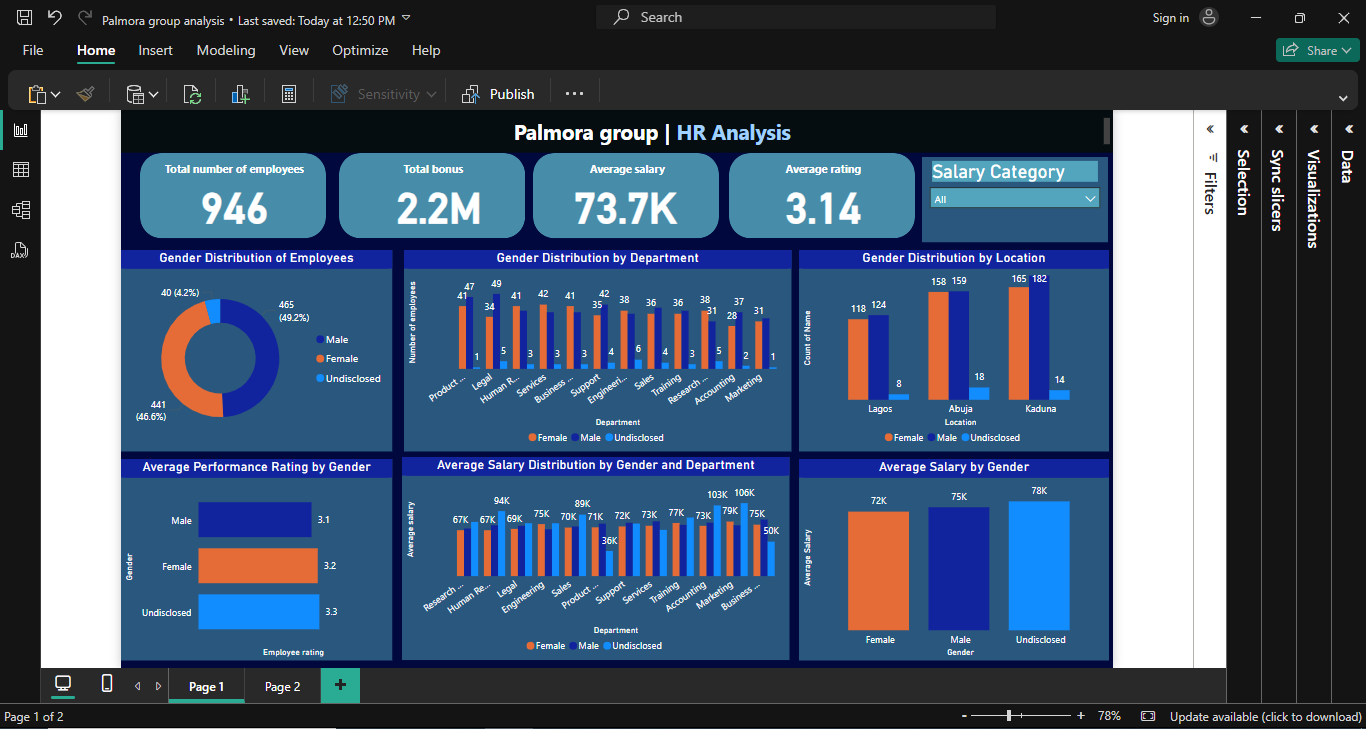

The page's visual inventory and layout, read from the dashboard file:
{"tool":"powerbi","page":{"name":"Page 1","canvas":[1280,720],"ordinal":0},"visuals":[{"type":"shape","box":[0,0,1280,55],"z":0},{"type":"shape","box":[25,55,240,110],"z":0,"group":"g4"},{"type":"shape","box":[280.9,55,240.2,110],"z":0,"group":"g1"},{"type":"shape","box":[532,55,240,110],"z":0,"group":"g2"},{"type":"shape","box":[784,55,240,110],"z":0,"group":"g3"},{"type":"textbox","box":[97.4,5,1182.6,45.4],"z":1000},{"type":"textbox","box":[37,60,220.1,30.2],"z":1000,"group":"g4"},{"type":"textbox","box":[292.6,60,220.1,30.5],"z":1000,"group":"g1"},{"type":"textbox","box":[544,60,220.1,30.2],"z":1000,"group":"g2"},{"type":"textbox","box":[796,60,220.1,30.2],"z":1000,"group":"g3"},{"type":"group","id":"g1","title":"Group 2","box":[280.9,55,240.2,110],"z":2000},{"type":"card","fields":{"Values":["Employees.Total Employees"]},"box":[77,85,140,70],"z":2000,"group":"g4"},{"type":"card","fields":{"Values":["BonusRules.Average Salary"]},"box":[560,85,180,70],"z":2000,"group":"g2"},{"type":"card","fields":{"Values":["Employees.Average Rating"]},"box":[836,85,140,70],"z":2000,"group":"g3"},{"type":"card","fields":{"Values":["Employees.Total Bonus Payout"]},"box":[320,85.2,180,70.5],"z":2000,"group":"g1"},{"type":"group","id":"g2","title":"Group 3","box":[532,55,240,110],"z":3000},{"type":"group","id":"g3","title":"Group 4","box":[784,55,240,110],"z":4000},{"type":"group","id":"g4","title":"Group 5","box":[25,55,240,110],"z":5000},{"type":"donutChart","title":"Gender Distribution of Employees","fields":{"Category":["Employees.Gender"],"Y":["CountNonNull(Employees.Name)"]},"box":[0,180,350,260],"z":6000},{"type":"clusteredColumnChart","title":"Gender Distribution by Department","fields":{"Series":["Employees.Gender"],"Category":["Employees.Department"],"Y":["CountNonNull(Employees.Name)"]},"box":[365,180,500,260.4],"z":7000},{"type":"clusteredColumnChart","title":"Gender Distribution by Location","fields":{"Category":["Employees.Location"],"Series":["Employees.Gender"],"Y":["CountNonNull(Employees.Name)"]},"box":[875,180.7,400,260.2],"z":8000},{"type":"clusteredBarChart","title":"Average Performance Rating by Gender","fields":{"Category":["Employees.Gender"],"Y":["Employees.Average Rating"]},"box":[0,450,350,260],"z":9000},{"type":"clusteredColumnChart","fields":{"Category":["Employees.Gender"],"Y":["BonusRules.Average Salary"]},"box":[875,450,400,260],"z":10000},{"type":"clusteredColumnChart","title":"Average Salary Distribution by Gender and Department","fields":{"Series":["Employees.Gender"],"Category":["Employees.Department"],"Y":["BonusRules.Average Salary"]},"box":[362.9,448.2,500.2,261.7],"z":11000},{"type":"slicer","fields":{"Values":["Employees.Salary Category"]},"box":[1033.7,60.7,240,110],"z":12000}]}

Visuals, with their boxes on the page's 1280x720 design canvas (x1, y1, x2, y2). These are canvas units, not pixel positions in the 1366x729 screenshot, which may show the page scaled, cropped or inside an application window:
shape: 0 0 1280 55
shape: 25 55 265 165
shape: 281 55 521 165
shape: 532 55 772 165
shape: 784 55 1024 165
textbox: 97 5 1280 50
textbox: 37 60 257 90
textbox: 293 60 513 90
textbox: 544 60 764 90
textbox: 796 60 1016 90
"Group 2" group: 281 55 521 165
card - Employees.Total Employees: 77 85 217 155
card - BonusRules.Average Salary: 560 85 740 155
card - Employees.Average Rating: 836 85 976 155
card - Employees.Total Bonus Payout: 320 85 500 156
"Group 3" group: 532 55 772 165
"Group 4" group: 784 55 1024 165
"Group 5" group: 25 55 265 165
"Gender Distribution of Employees" donutChart: 0 180 350 440
"Gender Distribution by Department" clusteredColumnChart: 365 180 865 440
"Gender Distribution by Location" clusteredColumnChart: 875 181 1275 441
"Average Performance Rating by Gender" clusteredBarChart: 0 450 350 710
clusteredColumnChart - Employees.Gender x BonusRules.Average Salary: 875 450 1275 710
"Average Salary Distribution by Gender and Department" clusteredColumnChart: 363 448 863 710
slicer - Employees.Salary Category: 1034 61 1274 171
